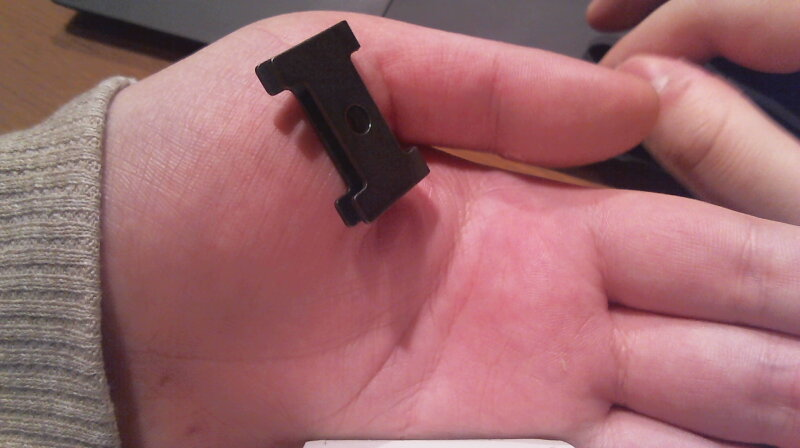O002: (248, 14, 433, 227)
